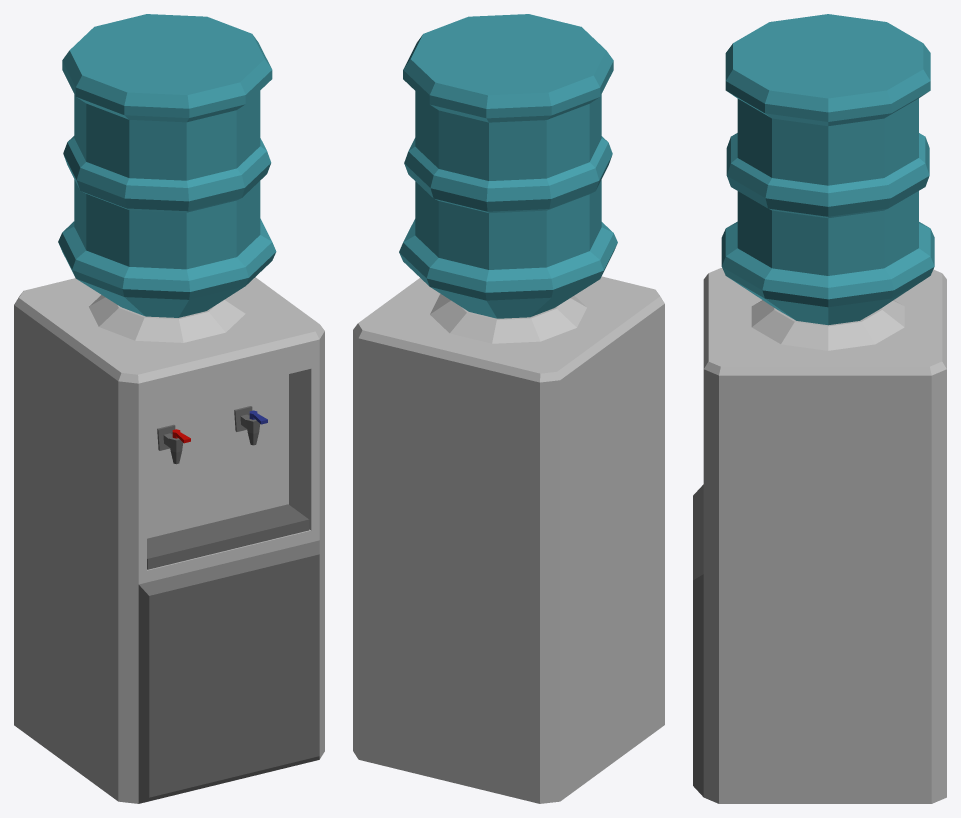
The model's file is P_Water_Dispenser.fbx.
The picture shows the model from 3 angles, left to right: view 1: azimuth 30°, elevation 25°; view 2: azimuth 150°, elevation 25°; view 3: azimuth 270°, elevation 25°; orthographic projection.
Visible parts, largest first — view 1: P_Water_Dispenser; view 2: P_Water_Dispenser; view 3: P_Water_Dispenser.
Boxes of the visible parts, box(x1,y1,x2,y2) form: P_Water_Dispenser: box(14, 14, 324, 803); P_Water_Dispenser: box(353, 14, 664, 803); P_Water_Dispenser: box(693, 14, 946, 803).
Bounding box in the file's own units: 304 × 318 × 961.
